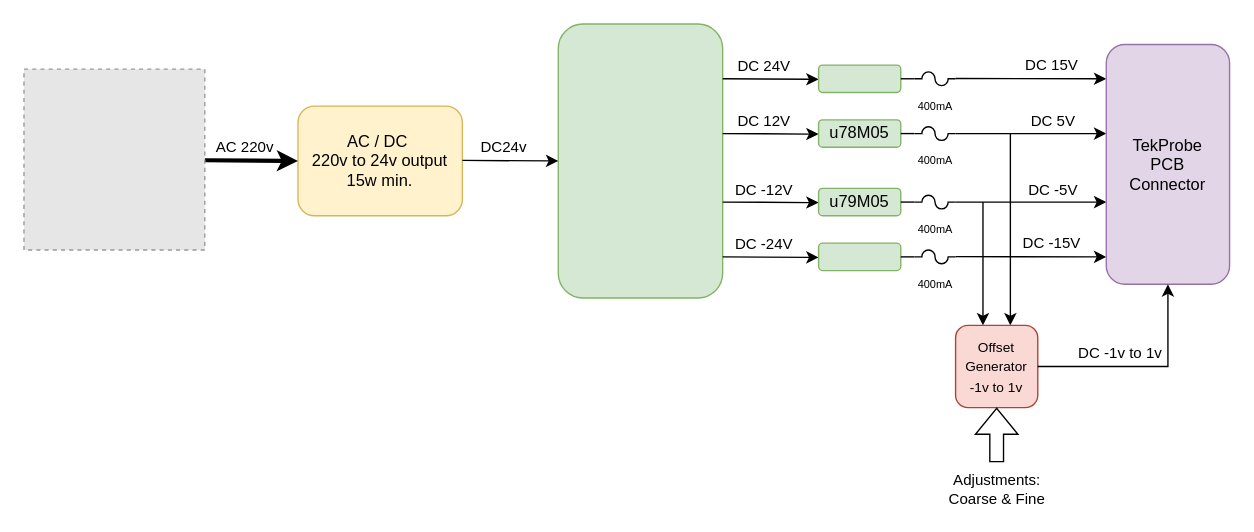
This 1254x532 diagram has some shape labels left out. Grey dashed boxes stand in for pictures. The centre of each missing label's shape, as x and y in pixels:
317M: the point at 859,78
LM337M: the point at 859,256
Wurth transformer: the point at 640,160
